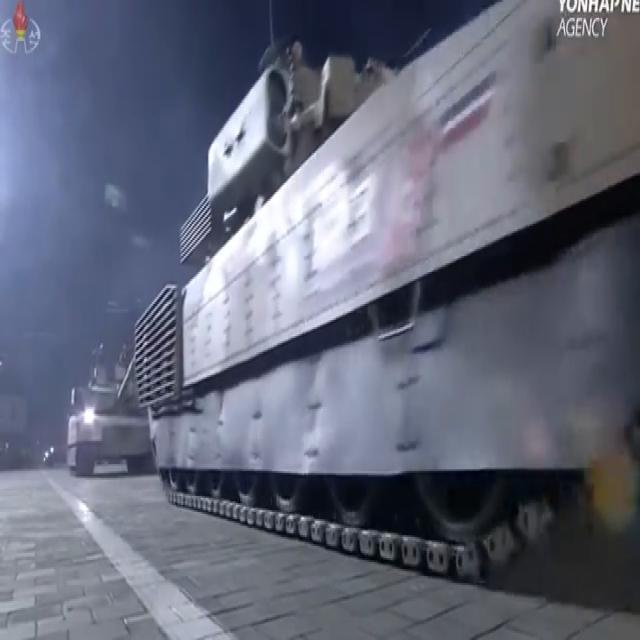north tank: (108, 0, 639, 592), (39, 326, 170, 502)
